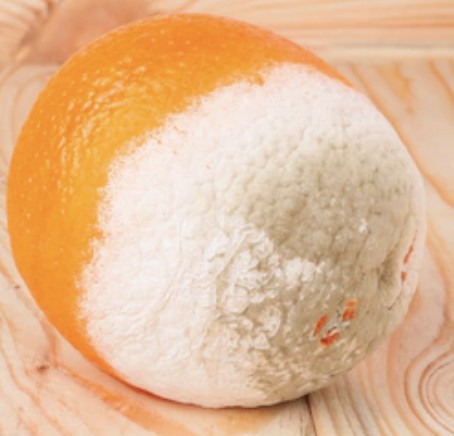rotten_orange: (9, 14, 427, 405)
